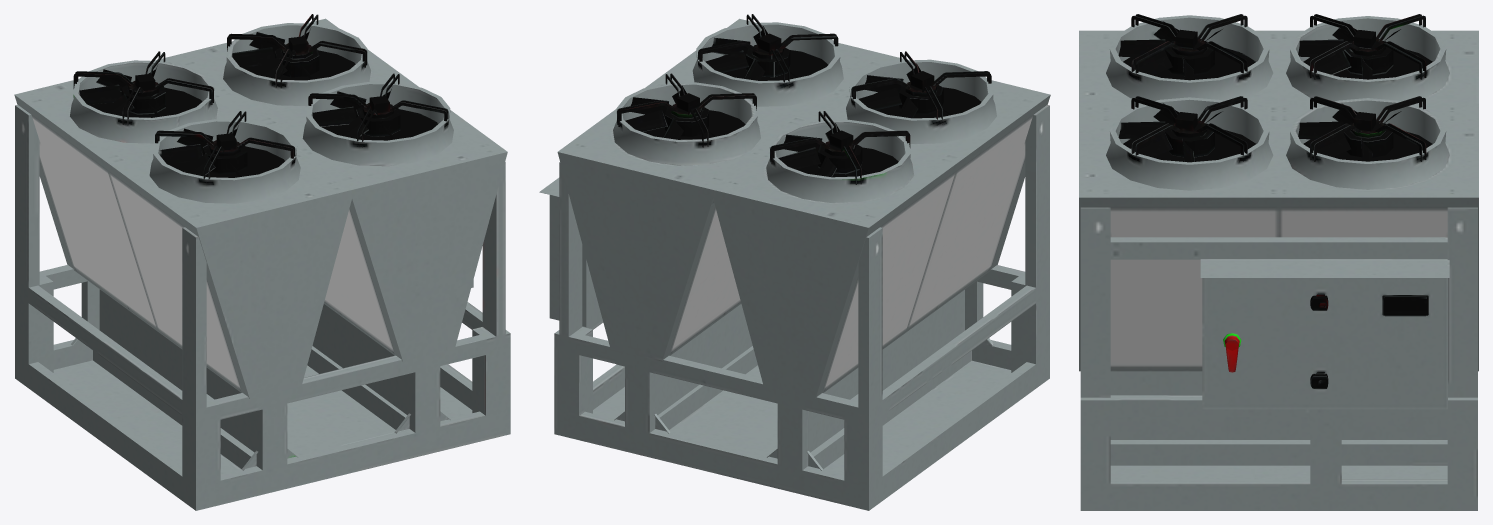
3 renders of one model, left to right at view 1: azimuth 30°, elevation 25°; view 2: azimuth 150°, elevation 25°; view 3: azimuth 270°, elevation 25°, orthographic. The views are drawn at different scales.
Parts seen in each view (by area): view 1: Sysaqua-Expo; view 2: Sysaqua-Expo; view 3: Sysaqua-Expo.
Part boxes in pixels (x1,y1,x2,y2): Sysaqua-Expo: [14, 14, 510, 510]; Sysaqua-Expo: [539, 14, 1050, 510]; Sysaqua-Expo: [1079, 14, 1478, 510].
Bounding box in the file's own units: 2.36 × 2.1 × 2.17.
1 material, 1 textured.
